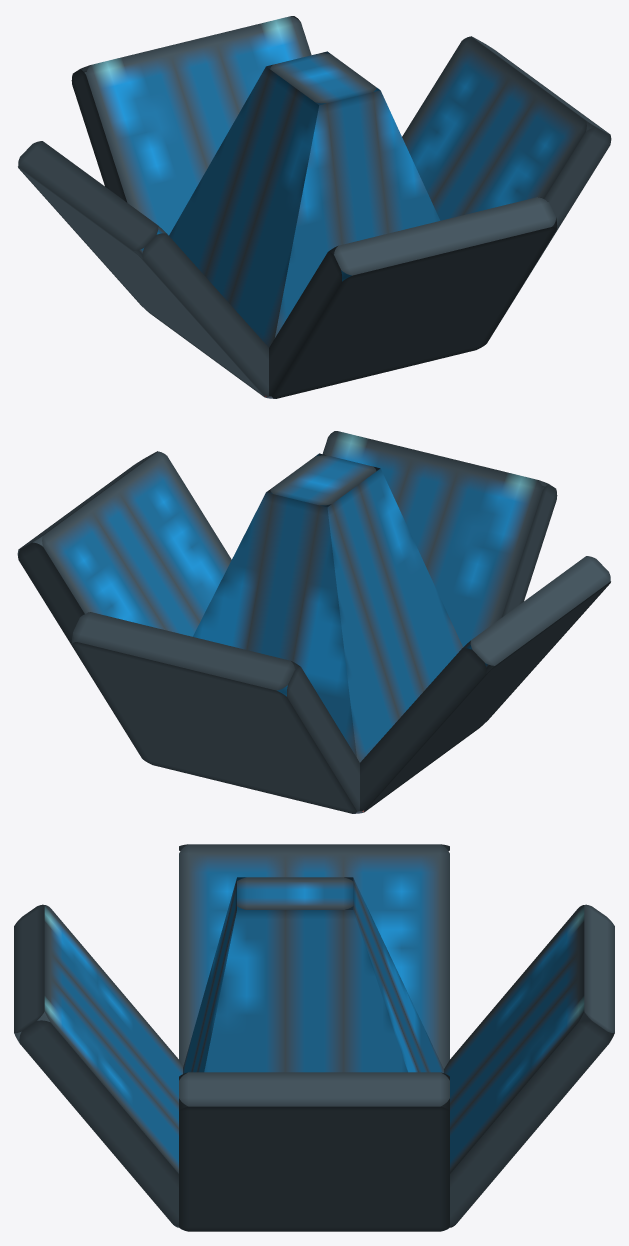
The model's file is solar_collector.obj.
The picture shows the model from 3 angles, top to bottom: view 1: azimuth 30°, elevation 25°; view 2: azimuth 150°, elevation 25°; view 3: azimuth 270°, elevation 25°; orthographic projection. The views are drawn at different scales.
Parts seen in each view (by area): view 1: mesh; view 2: mesh; view 3: mesh.
Part boxes in pixels (x1,y1,x2,y2): mesh: (18,16,611,398); mesh: (17,431,610,813); mesh: (14,844,614,1231).
Bounding box in the file's own units: 1.94 × 1 × 1.94.
1 material, 1 textured.
